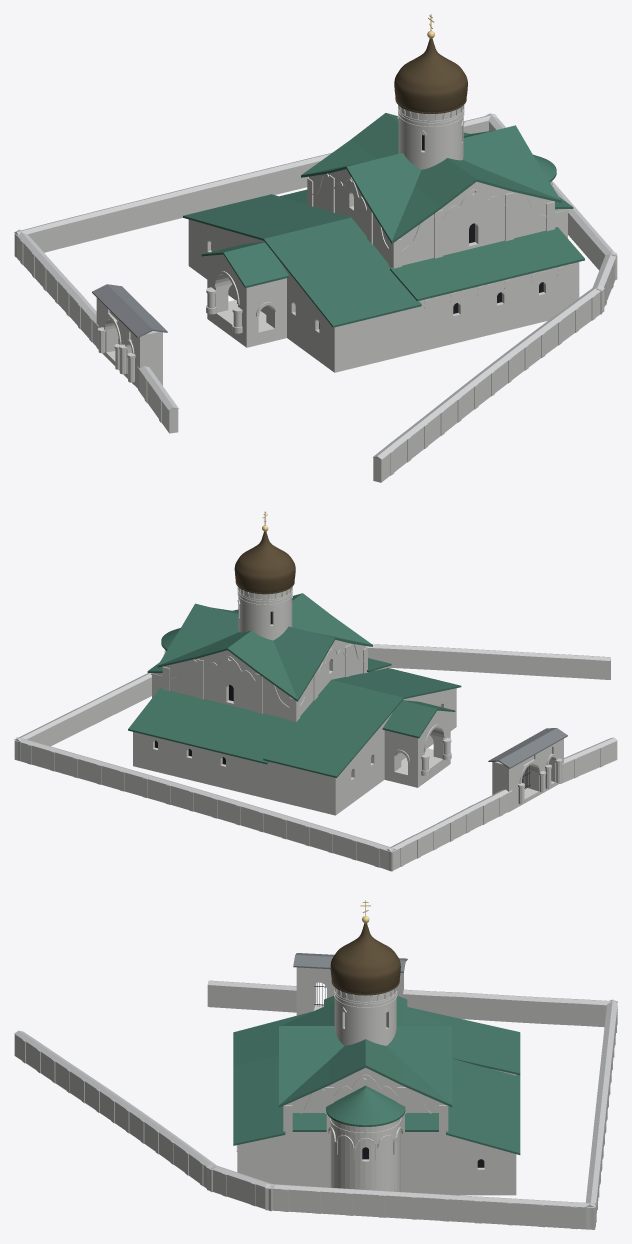
The model's file is SM_Kozmy.glb.
3 renders of one model, top to bottom at view 1: azimuth 30°, elevation 25°; view 2: azimuth 150°, elevation 25°; view 3: azimuth 270°, elevation 25°, orthographic. The views are drawn at different scales.
Visible parts, largest first — view 1: SM_Kozmy; view 2: SM_Kozmy; view 3: SM_Kozmy.
Boxes of the visible parts, x1=… form: SM_Kozmy: x1=14, y1=14, x2=617, y2=482; SM_Kozmy: x1=14, y1=511, x2=617, y2=871; SM_Kozmy: x1=14, y1=900, x2=617, y2=1229.
Size of the model in its own units: 58.02 by 29.1 by 60.21.
